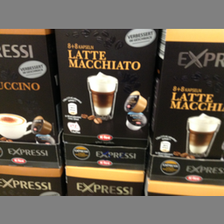coffee: (54, 28, 161, 144), (152, 29, 224, 159), (1, 28, 59, 145)
